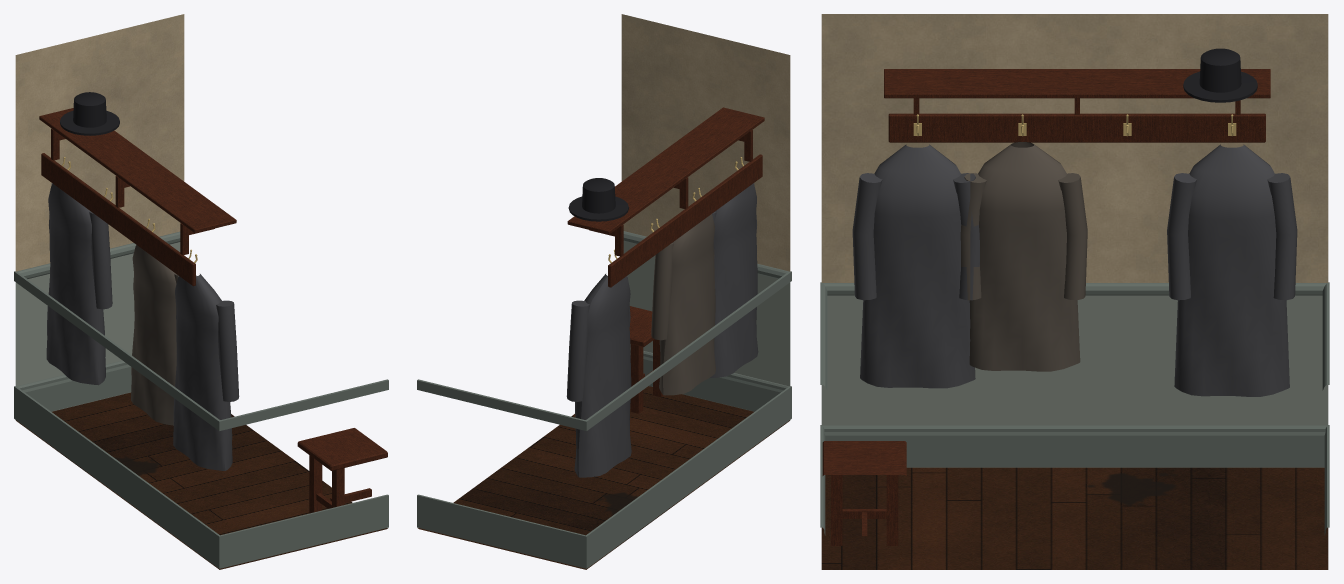
The model's file is corridor_hook_review.glb.
3 renders of one model, left to right at view 1: azimuth 30°, elevation 25°; view 2: azimuth 150°, elevation 25°; view 3: azimuth 270°, elevation 25°, orthographic. The views are drawn at different scales.
Visible parts, largest first — view 1: room_1·墙面、地面与线脚, room_1·大衣, room_1·挂钩板与帽架, room_1·长凳-col, room_1·礼帽, room_1·水渍; view 2: room_1·墙面、地面与线脚, room_1·大衣, room_1·挂钩板与帽架, room_1·长凳-col, room_1·礼帽, room_1·水渍; view 3: room_1·墙面、地面与线脚, room_1·大衣, room_1·挂钩板与帽架, room_1·长凳-col, room_1·礼帽, room_1·水渍.
Part boxes in pixels (x1,y1,x2,y2): room_1·墙面、地面与线脚: [14, 14, 388, 569]; room_1·大衣: [46, 183, 239, 470]; room_1·挂钩板与帽架: [39, 108, 236, 286]; room_1·长凳-col: [297, 428, 387, 513]; room_1·礼帽: [60, 92, 119, 135]; room_1·水渍: [114, 456, 159, 475]; room_1·墙面、地面与线脚: [417, 14, 791, 569]; room_1·大衣: [566, 183, 758, 477]; room_1·挂钩板与帽架: [567, 107, 764, 287]; room_1·长凳-col: [629, 306, 663, 413]; room_1·礼帽: [568, 178, 628, 221]; room_1·水渍: [598, 492, 638, 515]; room_1·墙面、地面与线脚: [820, 14, 1329, 569]; room_1·大衣: [852, 142, 1297, 396]; room_1·挂钩板与帽架: [884, 69, 1270, 142]; room_1·长凳-col: [822, 441, 906, 545]; room_1·礼帽: [1183, 48, 1257, 102]; room_1·水渍: [1086, 473, 1176, 505].
Bounding box in the file's own units: 1.04 × 2.15 × 2.19.
Materials: 10 (4 with a texture image).
